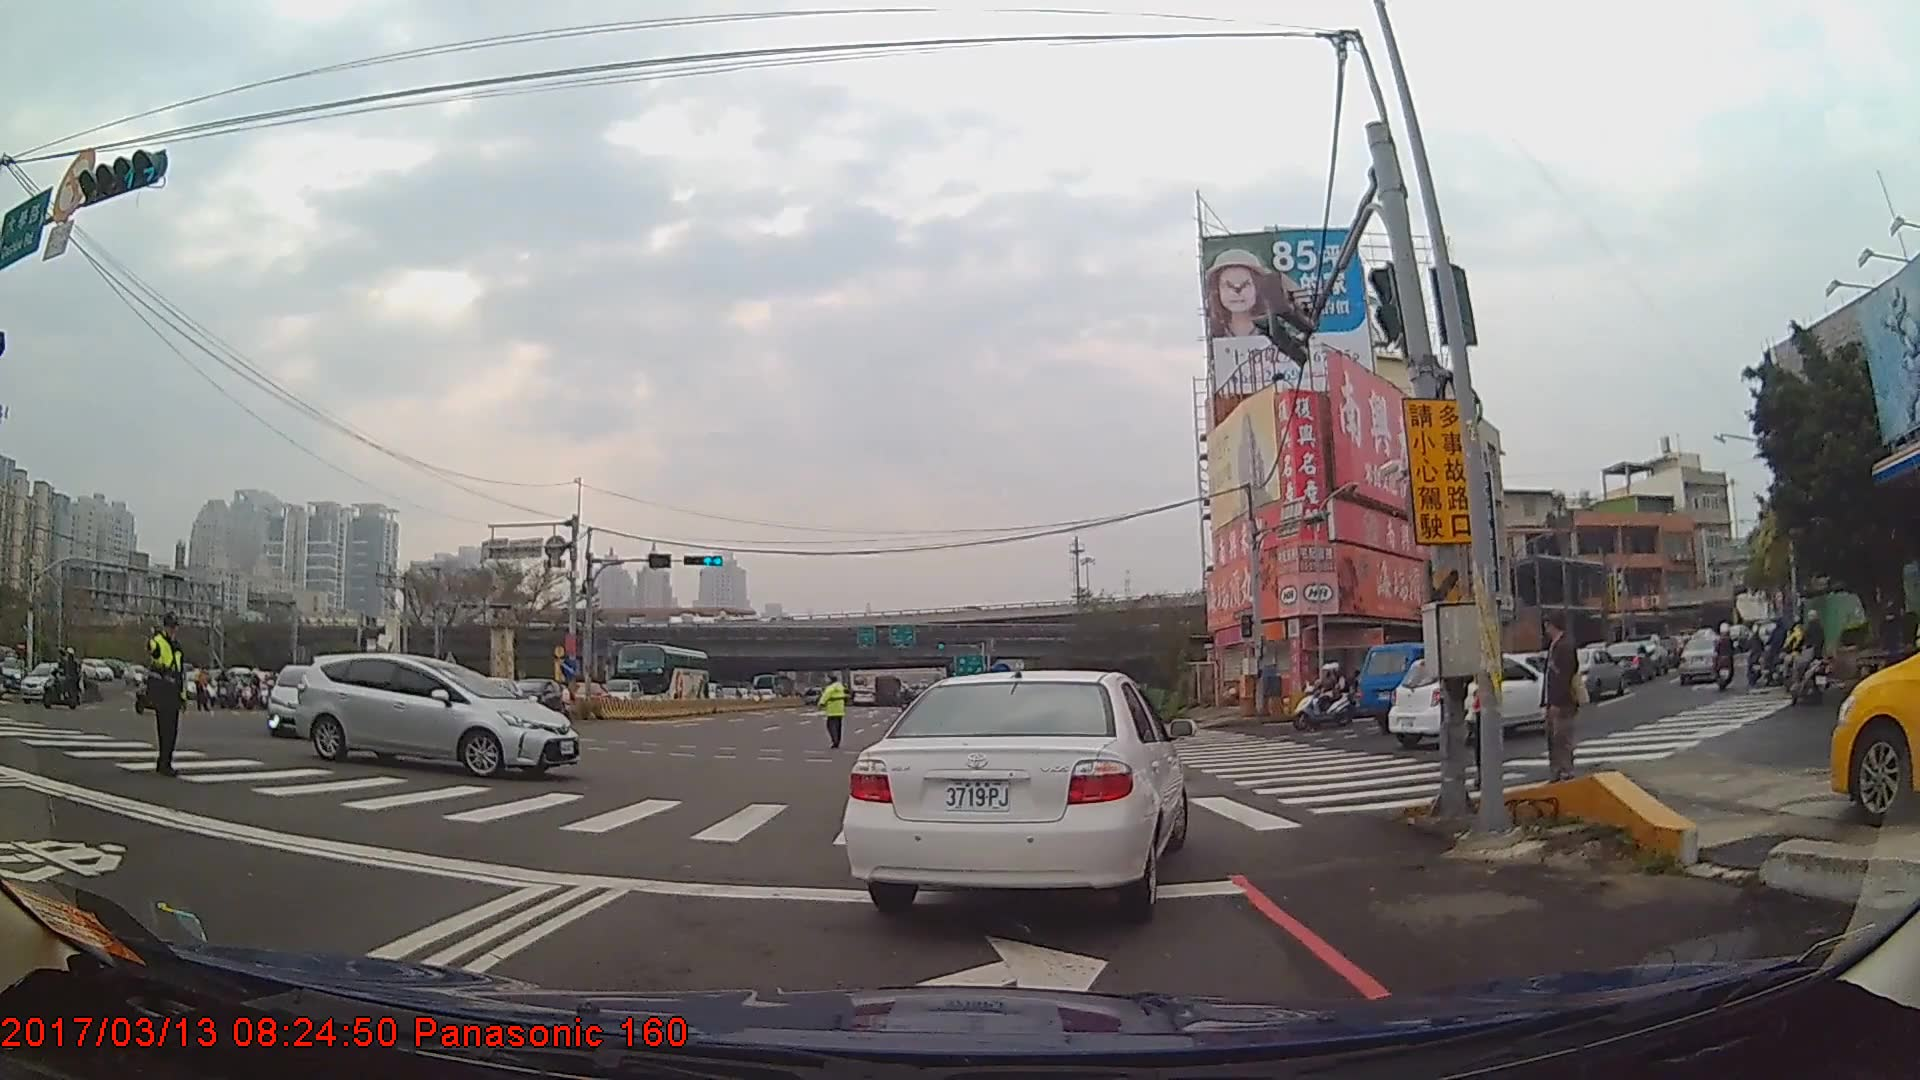pedestrian: (1531, 612, 1587, 782), (135, 611, 190, 779), (817, 671, 848, 753)
rider: (1784, 608, 1831, 700), (1294, 662, 1354, 733), (43, 647, 80, 711), (136, 657, 172, 716), (1711, 623, 1741, 695), (1767, 618, 1795, 690), (1745, 623, 1767, 685)
vehicle: (844, 667, 1191, 914), (297, 651, 585, 779), (1385, 649, 1564, 751), (1831, 649, 1920, 825), (613, 641, 709, 709), (268, 662, 346, 738), (17, 658, 78, 705), (1674, 631, 1727, 683), (1600, 641, 1653, 681), (515, 676, 562, 718)
